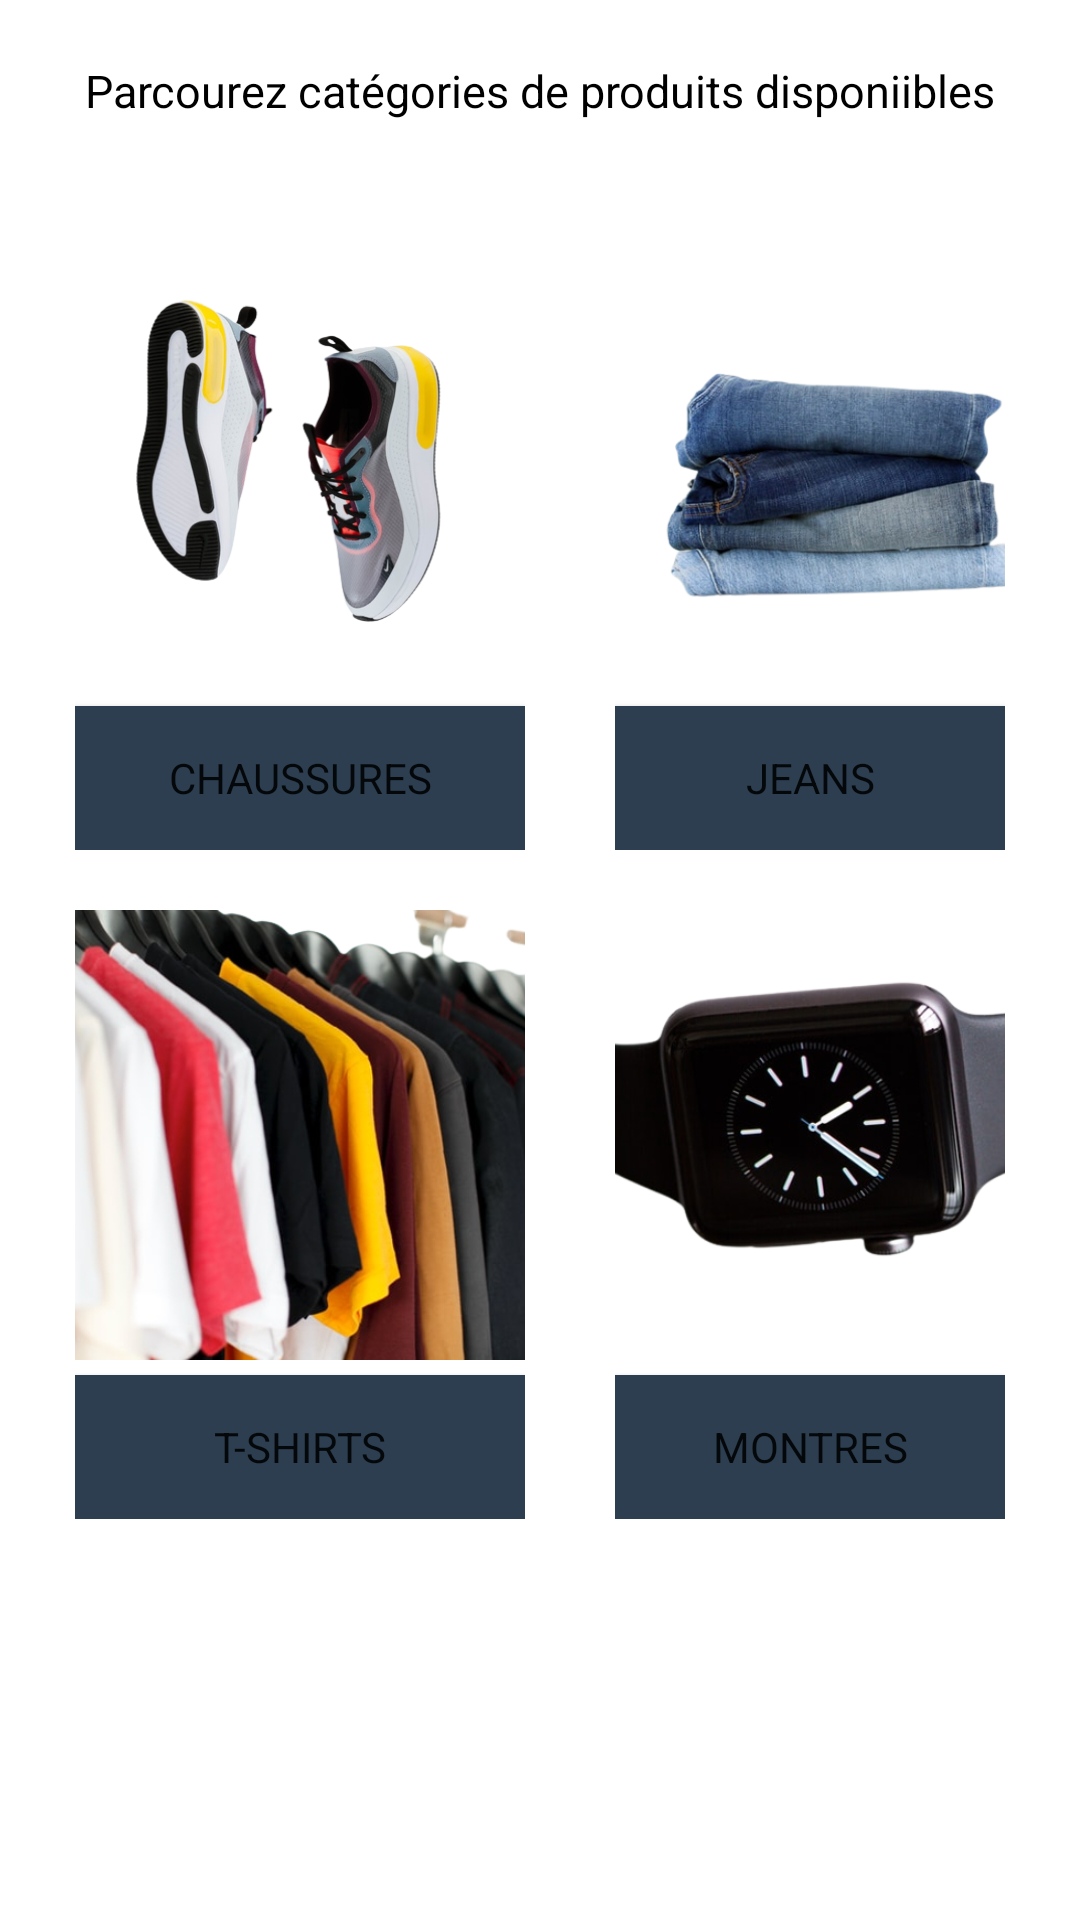

Screen size 1080×1920. Icon name, then its center in pixels as (x=x, y=y):
shoes: (x=288, y=461)
